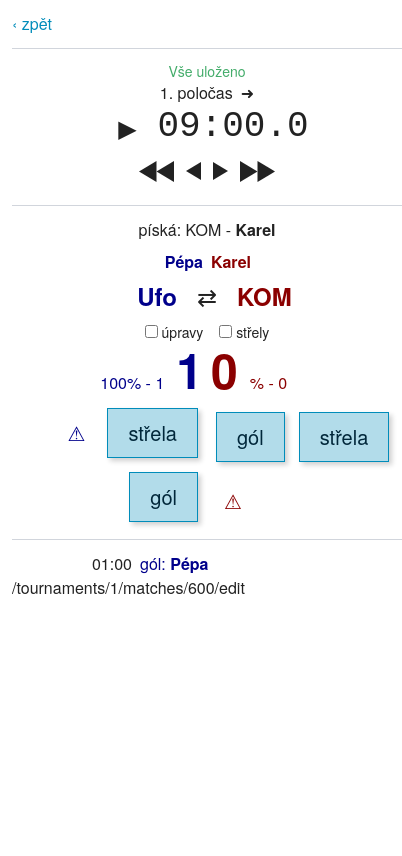
Test: remove and edit buttons appear only in edit mode
This screenshot has width=402, height=856.
Expected: the text "Pépa" next to "gól:" is shown, [170, 552, 209, 575]
Click the checkbox labelled "úpravy".
click(151, 332)  # box [145, 325, 158, 338]
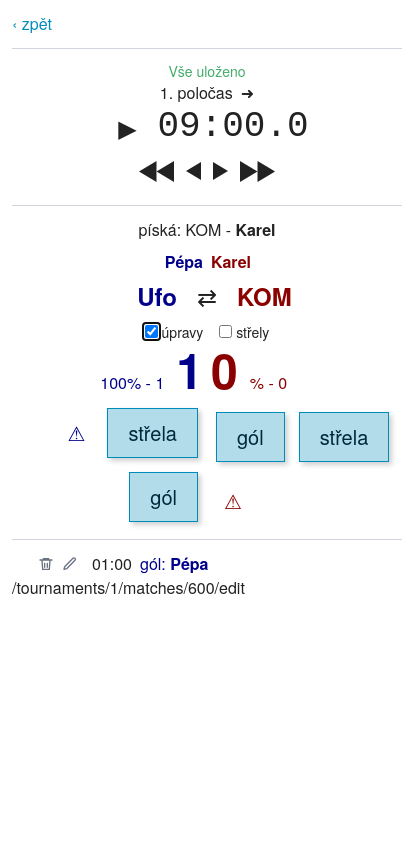
Now the button named "Smazat" is shown, box [36, 554, 56, 574]
Now the button named "Upravit" is shown, box [60, 554, 80, 574]
